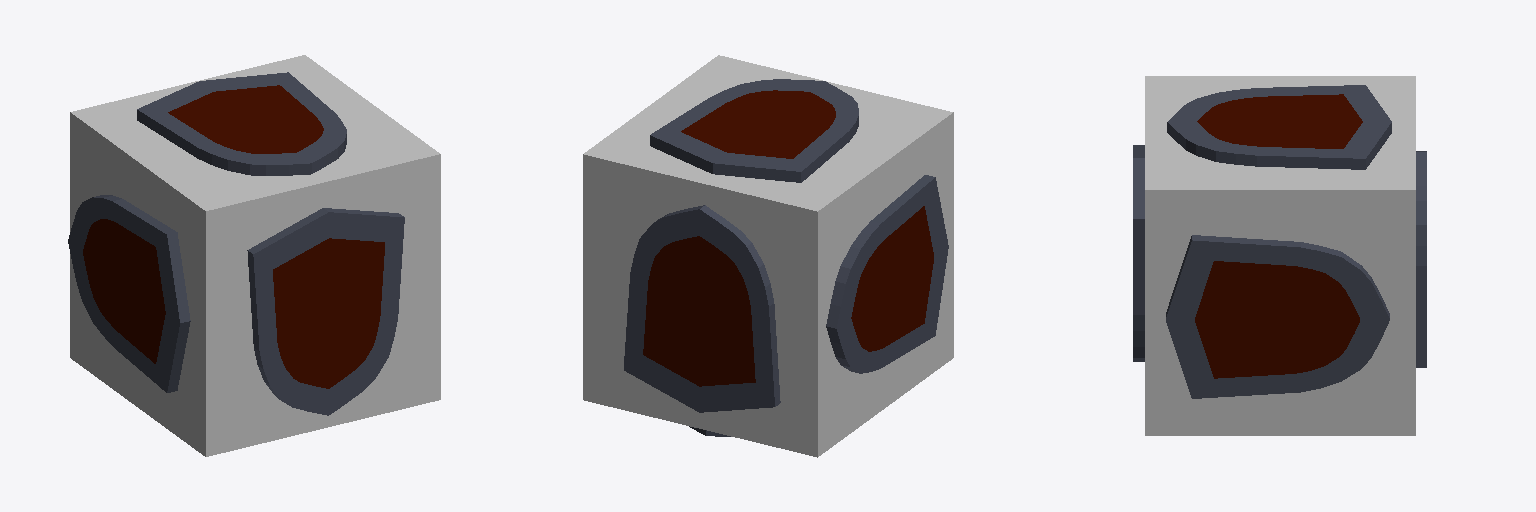
The model's file is invincibility.obj.
The picture shows the model from 3 angles: view 1: azimuth 30°, elevation 25°; view 2: azimuth 150°, elevation 25°; view 3: azimuth 270°, elevation 25°; orthographic projection.
Parts seen in each view (by area): view 1: Cube.010_Cube.014; view 2: Cube.010_Cube.014; view 3: Cube.010_Cube.014.
Part boxes in pixels (left/top/right/bottom): Cube.010_Cube.014: left=68, top=55, right=440, bottom=456; Cube.010_Cube.014: left=583, top=55, right=953, bottom=457; Cube.010_Cube.014: left=1133, top=76, right=1426, bottom=435.
Bounding box in the file's own units: 2.18 × 2.18 × 2.17.